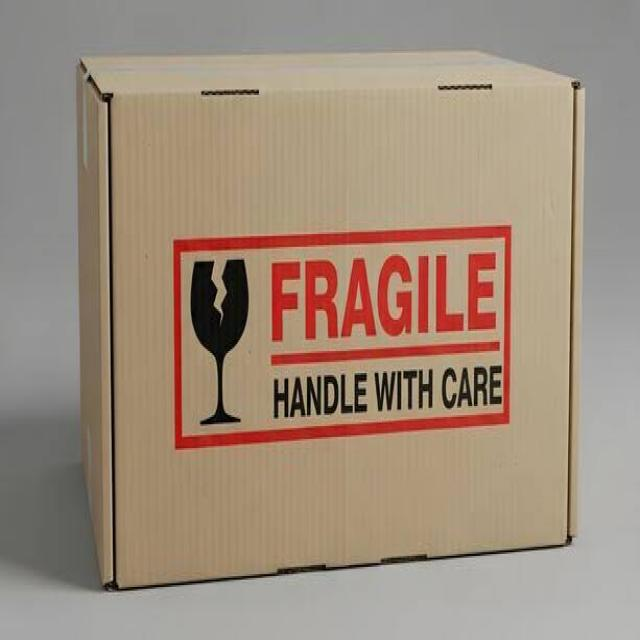fragile_label: (173, 233, 517, 440)
